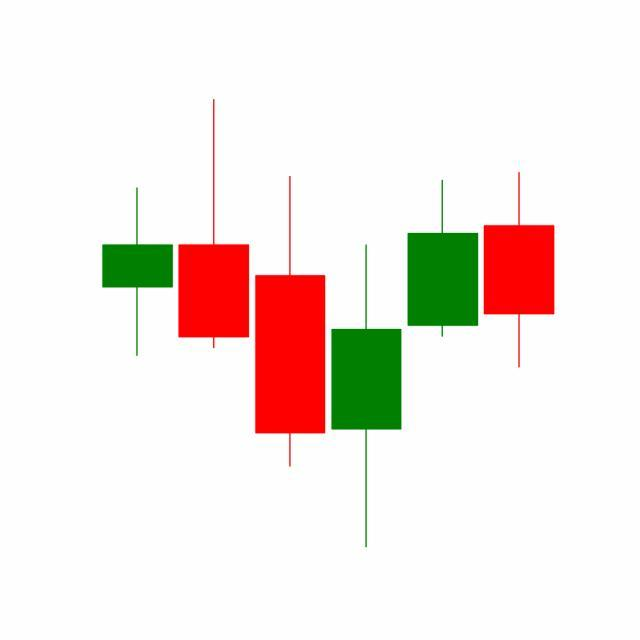Three Inside Up-Down: (252, 171, 482, 548)
